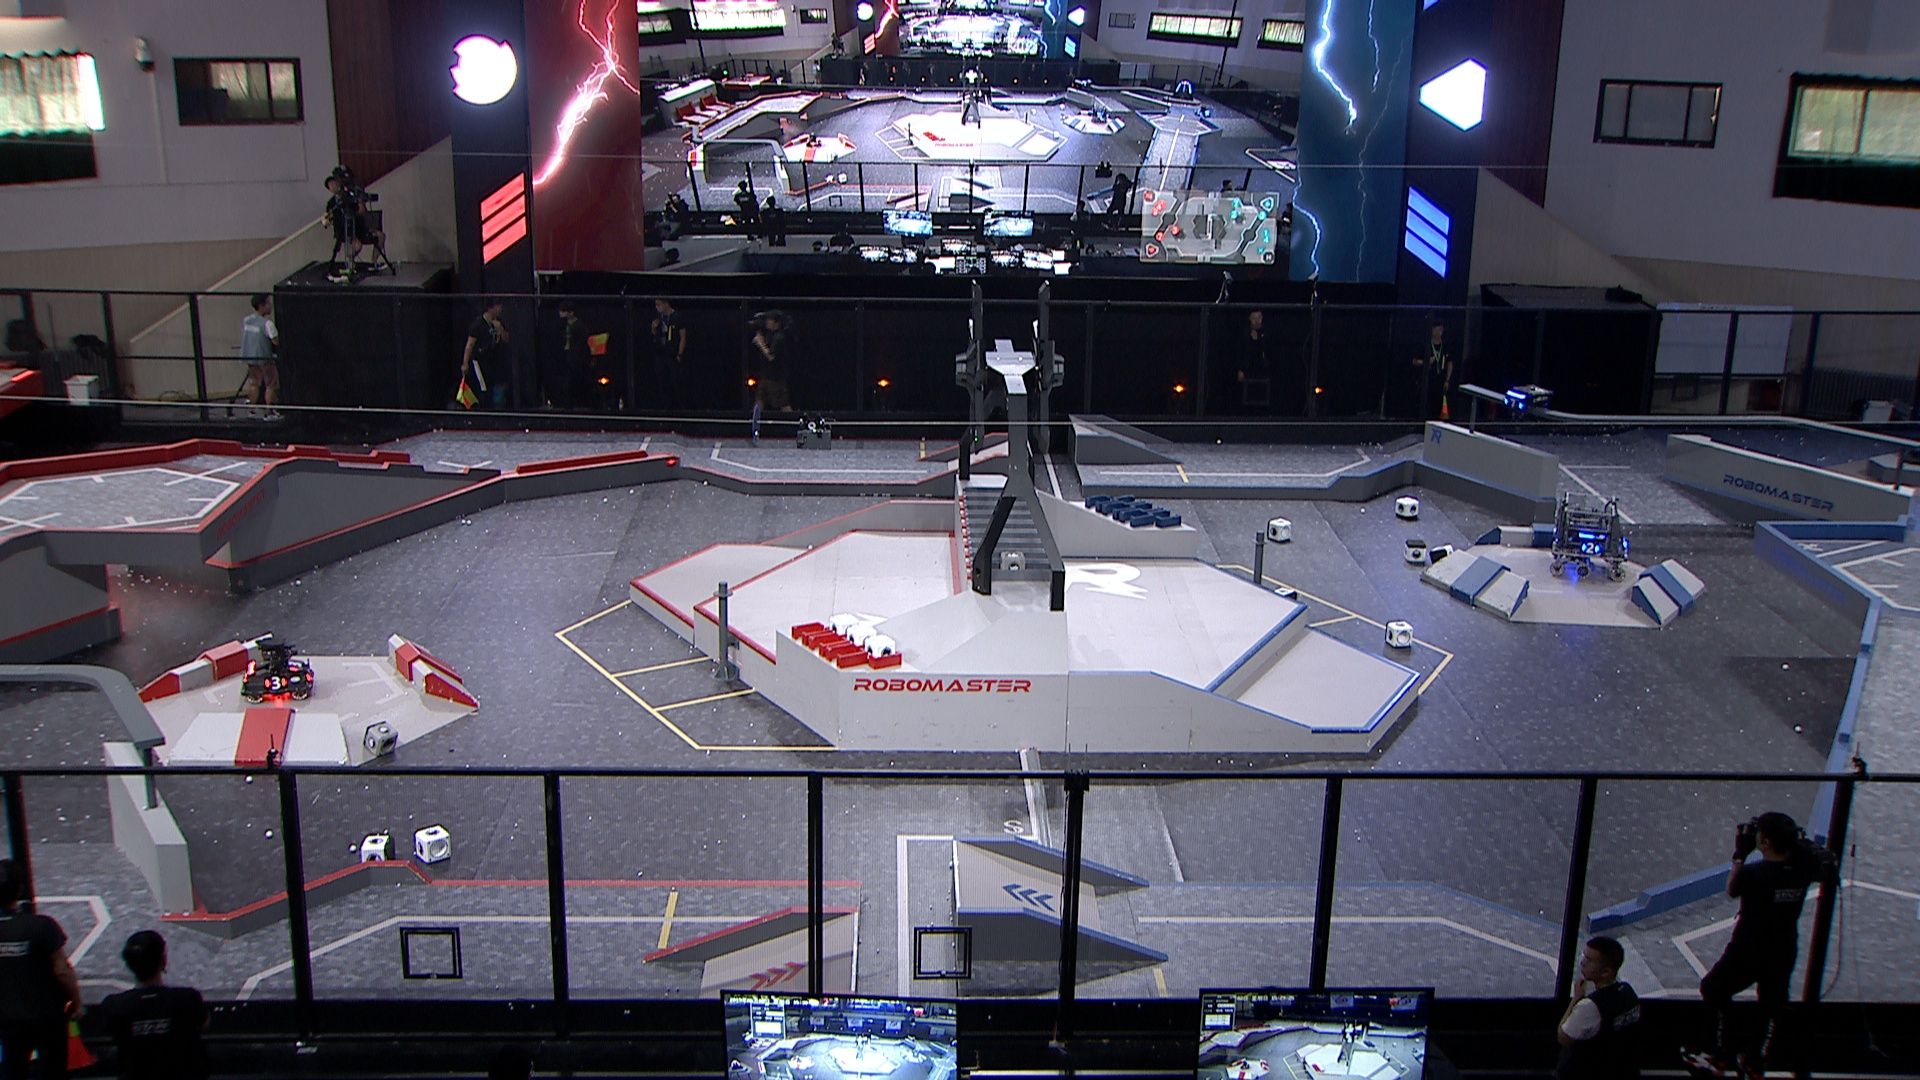armor: (1501, 396, 1527, 413), (262, 675, 289, 690), (1576, 541, 1600, 555), (285, 657, 305, 674)
car: (1547, 493, 1634, 580), (233, 633, 316, 704)
watcher: (1493, 378, 1553, 433)
